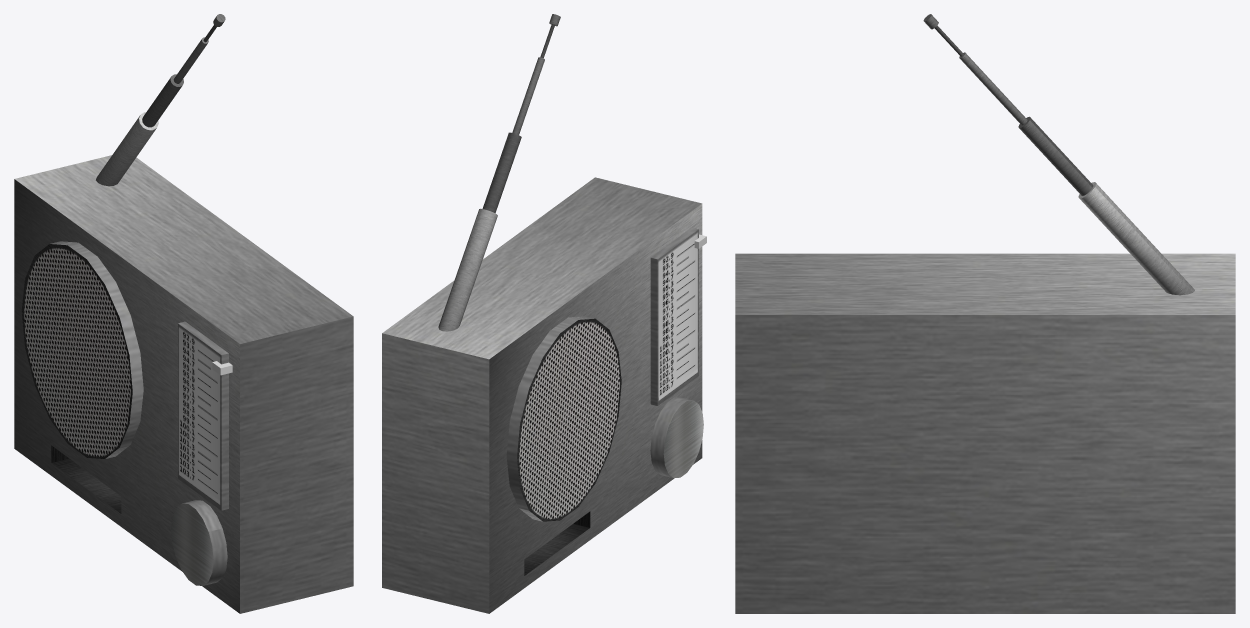
The model's file is Radio.fbx.
3 views of the same model, side by side, from view 1: azimuth 30°, elevation 25°; view 2: azimuth 150°, elevation 25°; view 3: azimuth 270°, elevation 25° (orthographic). The views are drawn at different scales.
Parts seen in each view (by area): view 1: Box001, Antenna, Object001; view 2: Box001, Antenna, Object001; view 3: Box001, Antenna.
Part boxes in pixels (<box>): Box001: <box>14,155,353,613</box>; Antenna: <box>96,14,225,186</box>; Object001: <box>171,503,213,585</box>; Box001: <box>382,177,702,613</box>; Antenna: <box>438,14,560,331</box>; Object001: <box>663,400,703,478</box>; Box001: <box>735,253,1235,613</box>; Antenna: <box>923,14,1194,295</box>.
Bounding box in the file's own units: 29.36 × 114 × 89.9.
2 materials, 2 textured.
